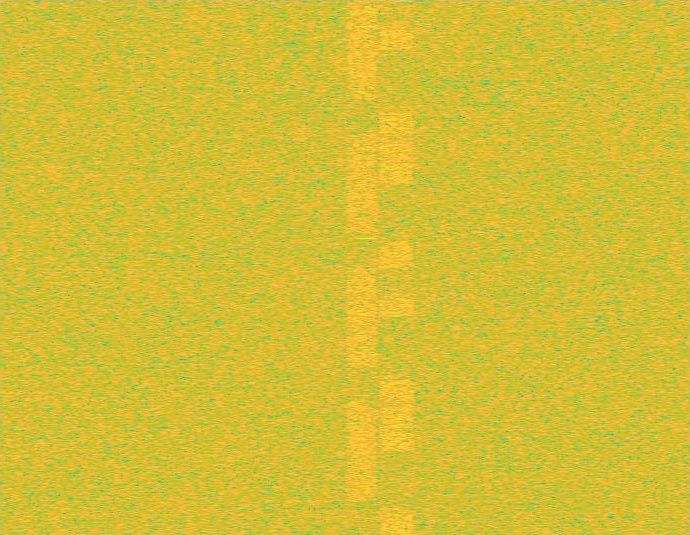5G: (345, 0, 380, 534)
LTE: (380, 0, 414, 534)
Radar: (360, 0, 374, 534)
